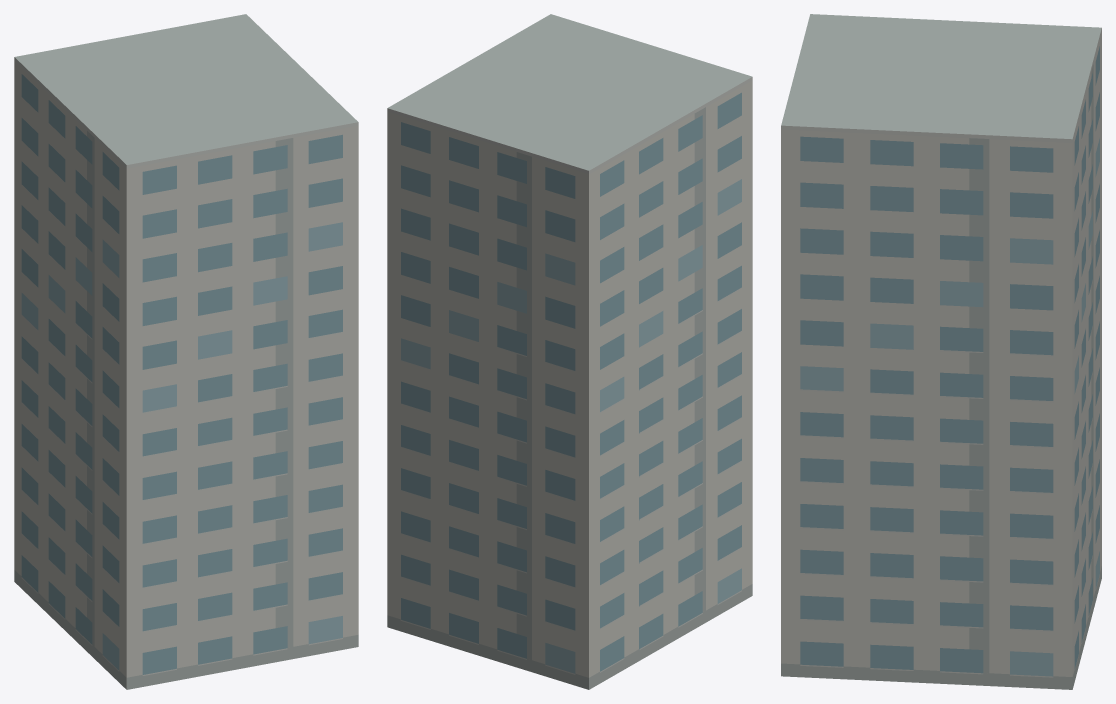
Rendered from residential-0e70e028-a5ff-45b6-ac40-ce7c0f6cc000.glb.
3 renders of one model, left to right at view 1: azimuth 30°, elevation 25°; view 2: azimuth 150°, elevation 25°; view 3: azimuth 270°, elevation 25°, orthographic. The views are drawn at different scales.
Visible parts, largest first — view 1: residential-0e70e028-a5ff-45b6-ac40-ce7c0f6cc000.tmp; view 2: residential-0e70e028-a5ff-45b6-ac40-ce7c0f6cc000.tmp; view 3: residential-0e70e028-a5ff-45b6-ac40-ce7c0f6cc000.tmp.
Part boxes in pixels (x1=…): residential-0e70e028-a5ff-45b6-ac40-ce7c0f6cc000.tmp: x1=14, y1=14, x2=358, y2=689; residential-0e70e028-a5ff-45b6-ac40-ce7c0f6cc000.tmp: x1=387, y1=14, x2=752, y2=689; residential-0e70e028-a5ff-45b6-ac40-ce7c0f6cc000.tmp: x1=781, y1=14, x2=1101, y2=689.
Size of the model in its own units: 17.56 by 36 by 19.01.
